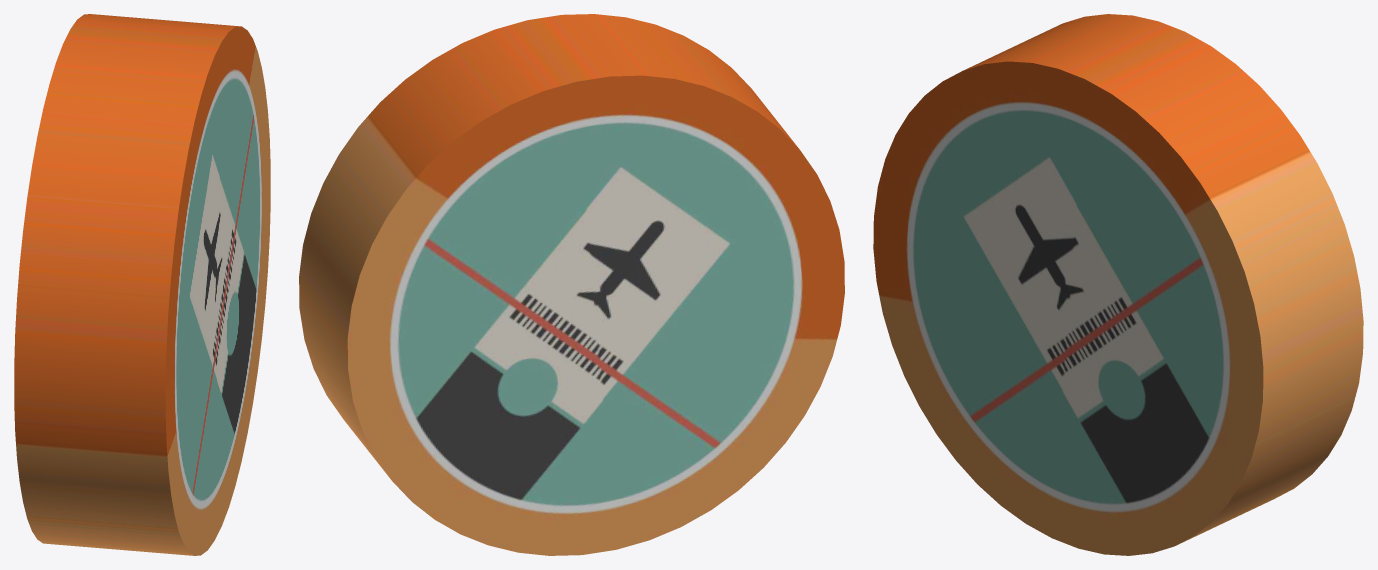
Rendered from HSBC Entorno_10_CAPAS_Cluster Balance.fbx.
3 renders of one model, left to right at view 1: azimuth 30°, elevation 25°; view 2: azimuth 150°, elevation 25°; view 3: azimuth 270°, elevation 25°, orthographic. The views are drawn at different scales.
Visible parts, largest first — view 1: cilindro_boleto.001; view 2: cilindro_boleto.001; view 3: cilindro_boleto.001.
Boxes of the visible parts, x1,y1,x2,y2 form: cilindro_boleto.001: (14, 14, 270, 555); cilindro_boleto.001: (299, 14, 844, 555); cilindro_boleto.001: (873, 14, 1363, 555).
Size of the model in its own units: 240 by 273 by 257.
